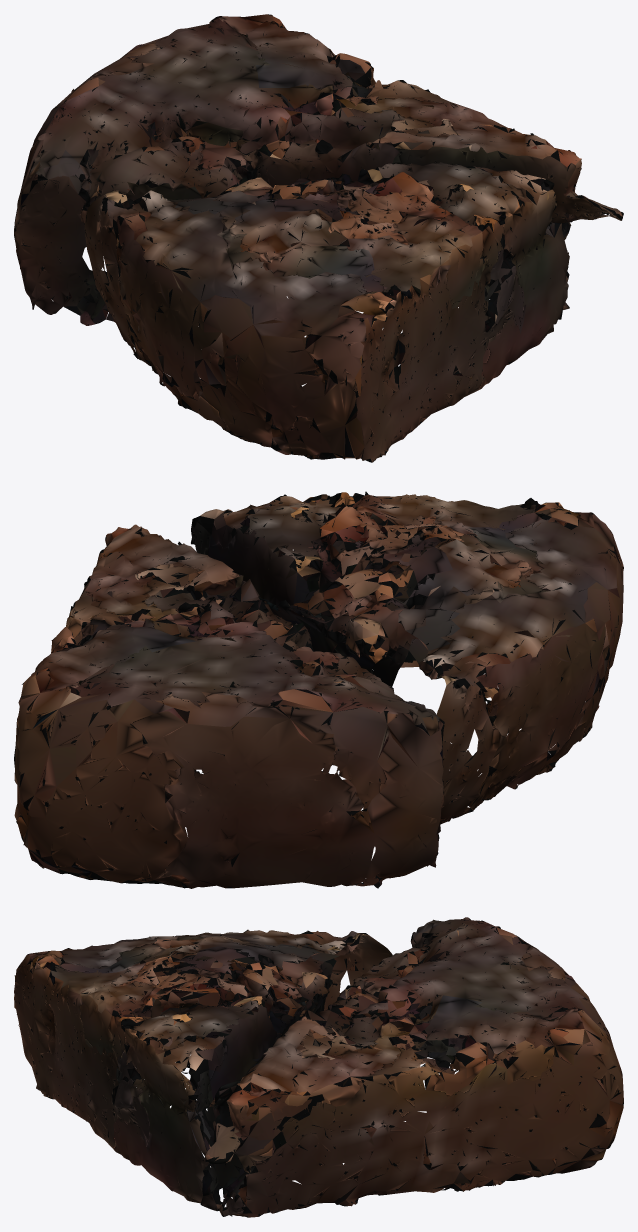
Rendered from cardamomo-brownie.glb.
3 views of the same model, one above another, from view 1: azimuth 30°, elevation 25°; view 2: azimuth 150°, elevation 25°; view 3: azimuth 270°, elevation 25° (orthographic). The views are drawn at different scales.
Visible parts, largest first — view 1: lo; view 2: lo; view 3: lo.
Part boxes in pixels (x1,y1,x2,y2): lo: (14,14,623,462); lo: (14,491,623,888); lo: (14,917,623,1217).
Size of the model in its own units: 0.07 by 0.0262 by 0.0919.
1 material, 1 textured.
